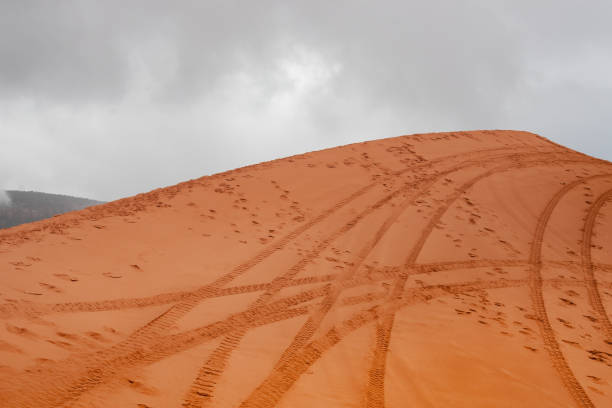vehicle_track: (93, 182, 377, 364), (29, 178, 387, 312), (73, 289, 322, 391), (249, 183, 413, 309), (529, 173, 611, 406), (390, 163, 519, 300), (389, 163, 516, 302), (311, 165, 463, 281), (338, 163, 469, 280), (240, 305, 384, 407), (88, 289, 203, 372), (277, 285, 338, 363), (581, 189, 612, 342), (277, 291, 338, 365), (362, 259, 529, 280), (252, 288, 323, 326), (409, 259, 527, 273), (249, 370, 277, 405)
